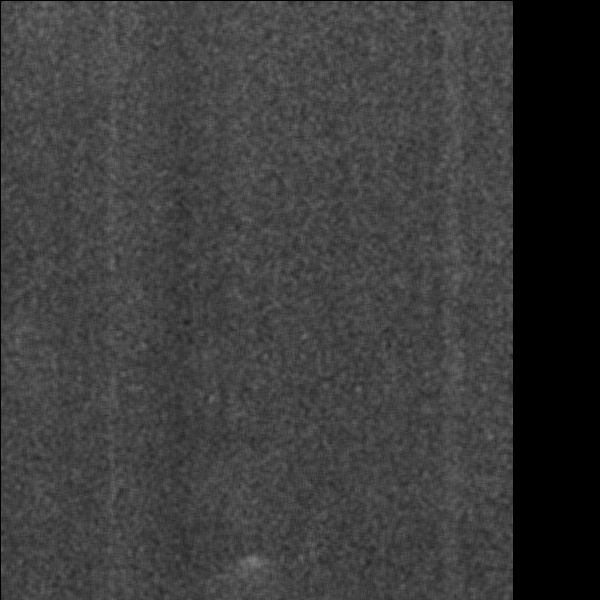spark: (200, 392, 234, 434)
